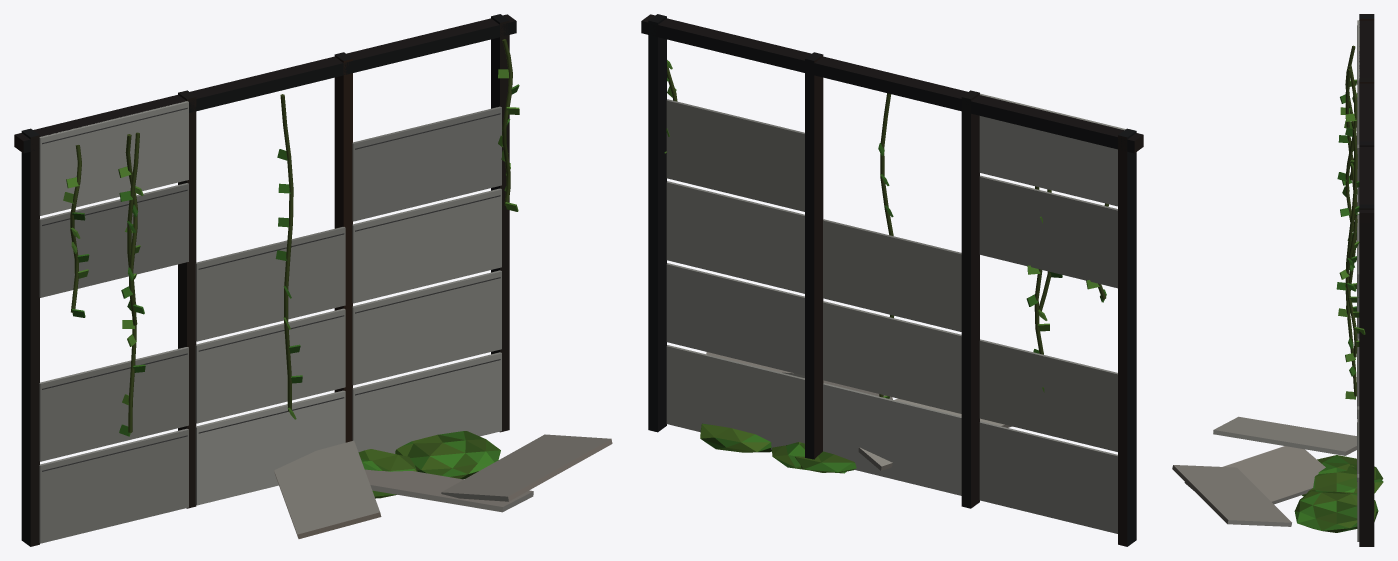
File: collapsed_panel_wall.glb
3 views of the same model, side by side, from view 1: azimuth 30°, elevation 25°; view 2: azimuth 150°, elevation 25°; view 3: azimuth 270°, elevation 25° (orthographic). The views are drawn at different scales.
Visible parts, largest first — view 1: Mesh; view 2: Mesh; view 3: Mesh.
Part boxes in pixels (x1,y1,x2,y2): Mesh: (14,14,612,546); Mesh: (641,14,1143,546); Mesh: (1172,14,1383,546).
Size of the model in its own units: 6.51 by 5.1 by 2.83.
